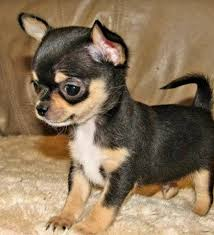chihuahua: (13, 9, 207, 235)
